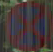No Stopping: (2, 2, 52, 50)
